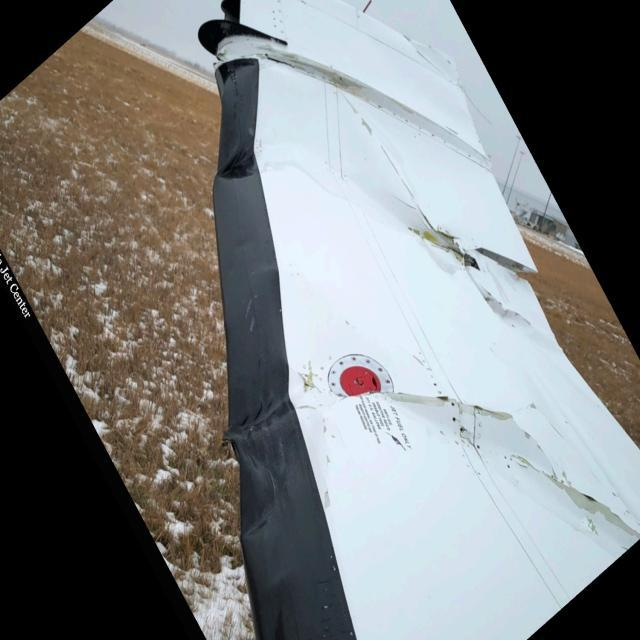crack: (368, 395, 640, 559), (412, 219, 549, 337)
